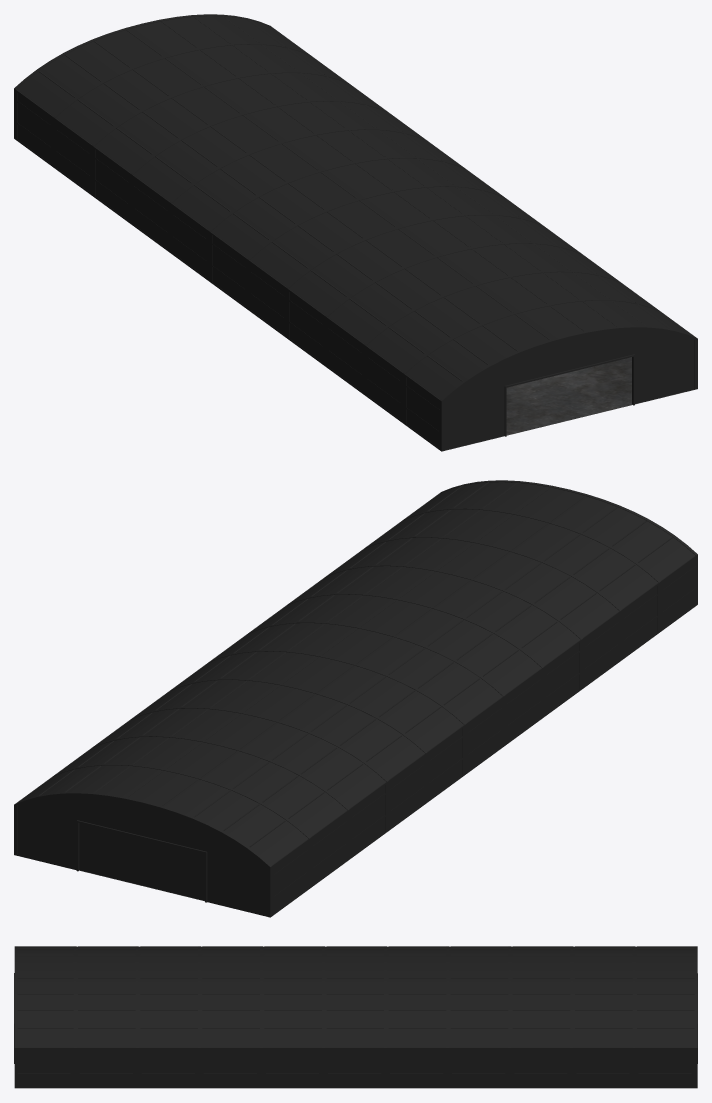
File: Warehouse.fbx
3 views of the same model, one above another, from view 1: azimuth 30°, elevation 25°; view 2: azimuth 150°, elevation 25°; view 3: azimuth 270°, elevation 25° (orthographic). The views are drawn at different scales.
Visible parts, largest first — view 1: NurbsPath.005; view 2: NurbsPath.005; view 3: NurbsPath.005.
Part boxes in pixels (x1,y1,x2,y2): NurbsPath.005: (14,14,697,451); NurbsPath.005: (14,480,697,917); NurbsPath.005: (14,946,697,1088).
Size of the model in its own units: 630 by 198 by 1822.
Materials: 3 (1 with a texture image).
